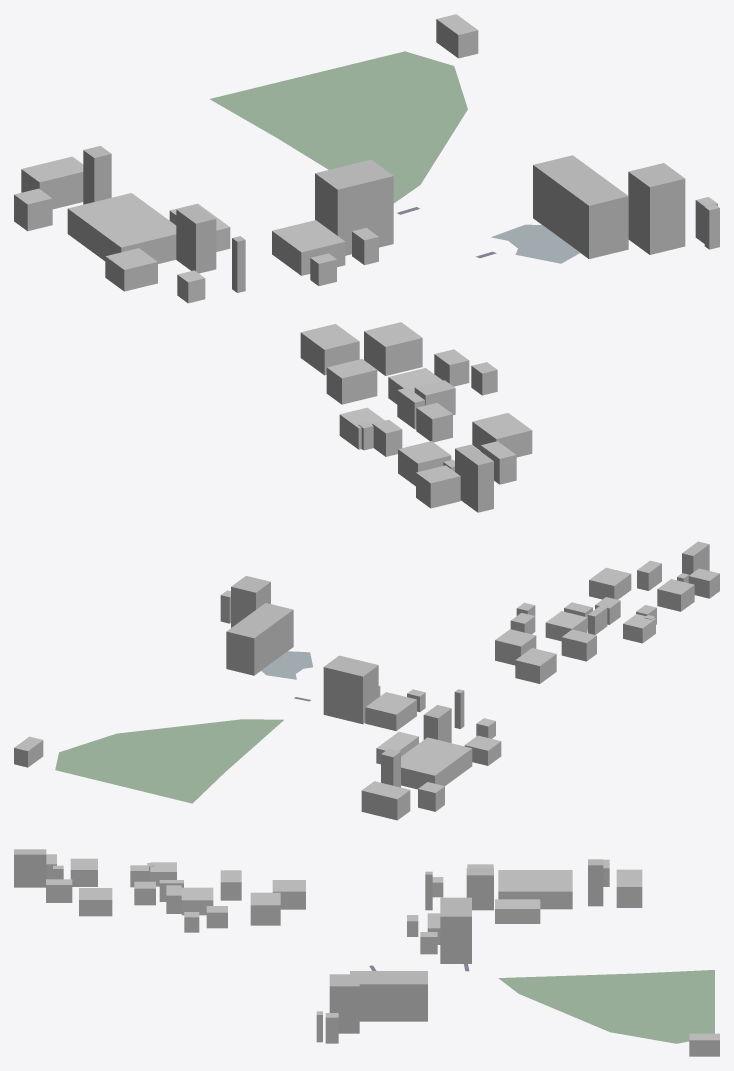
Rendered from 133_84_mid.glb.
3 renders of one model, top to bottom at view 1: azimuth 30°, elevation 25°; view 2: azimuth 150°, elevation 25°; view 3: azimuth 270°, elevation 25°, orthographic. The views are drawn at different scales.
Bounding box in the file's own units: 304 × 43.03 × 510.
